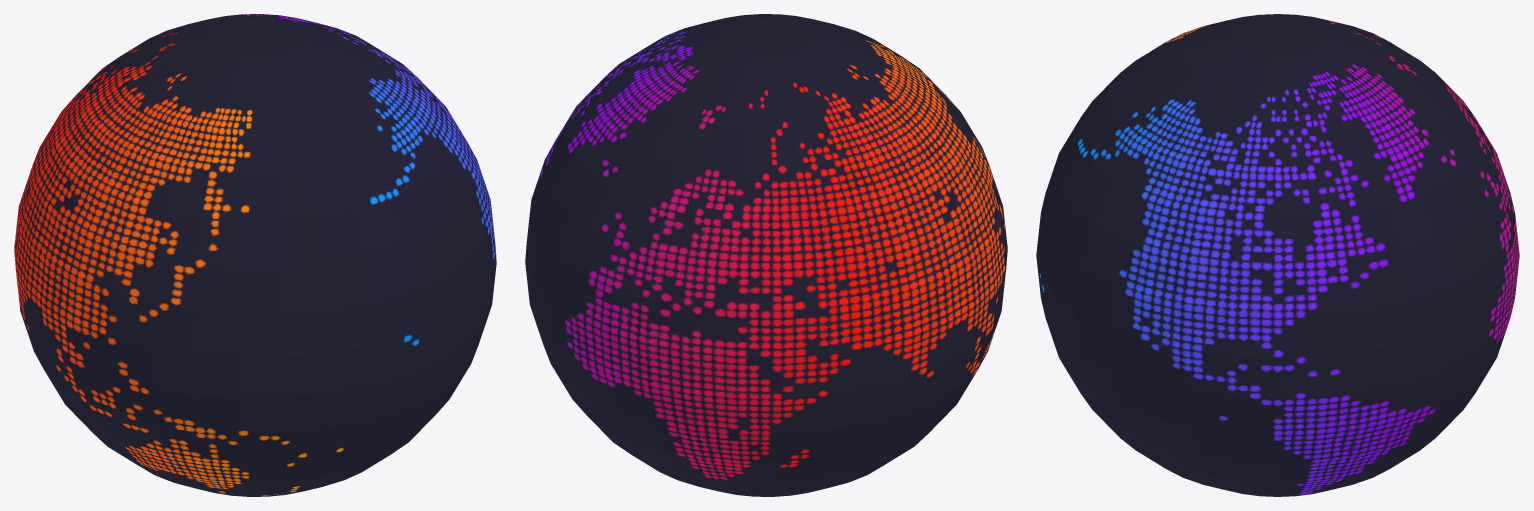
The model's file is colored_earth_dots_lgbtqworldwide.gltf.
3 renders of one model, left to right at view 1: azimuth 30°, elevation 25°; view 2: azimuth 150°, elevation 25°; view 3: azimuth 270°, elevation 25°, orthographic.
Visible parts, largest first — view 1: Sphere; view 2: Sphere; view 3: Sphere.
Part boxes in pixels (x1=…): Sphere: x1=14, y1=14, x2=496, y2=496; Sphere: x1=525, y1=14, x2=1007, y2=496; Sphere: x1=1036, y1=14, x2=1519, y2=496.
Bounding box in the file's own units: 2 × 1.99 × 2.
1 material, 1 textured.
